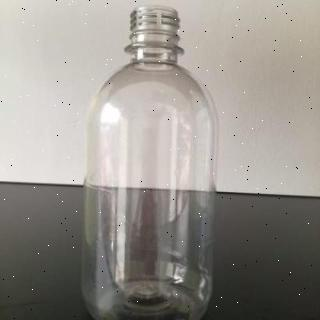Plastic-bottle: (81, 4, 219, 320)
